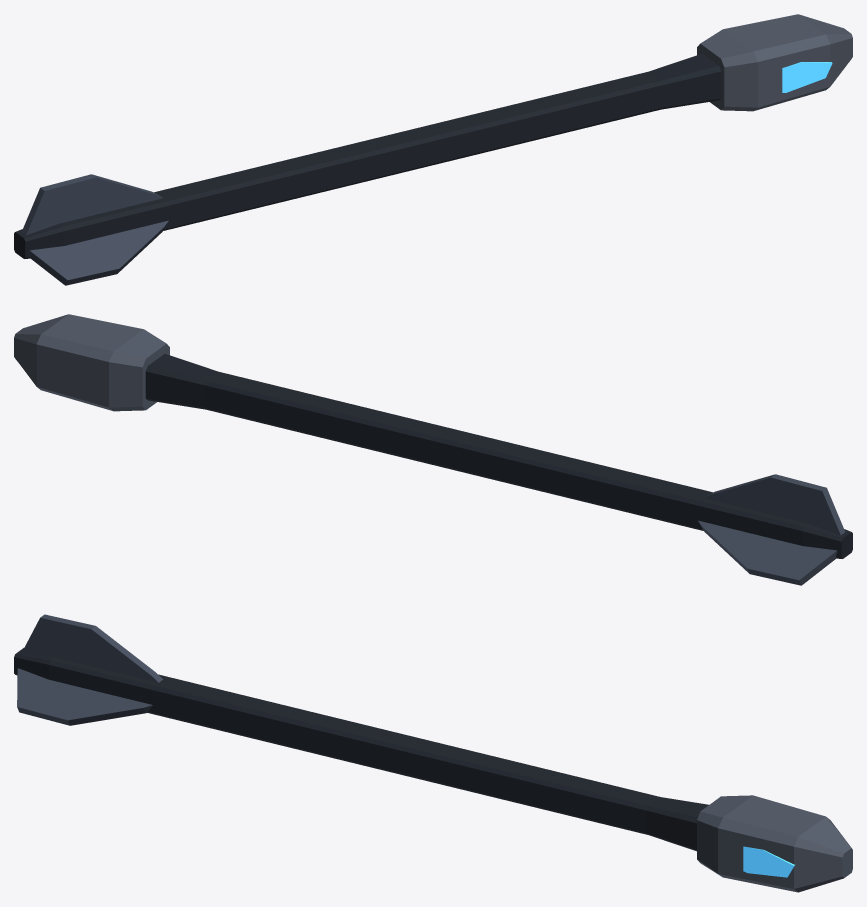
File: ReconDart.fbx
The picture shows the model from 3 angles, top to bottom: view 1: azimuth 30°, elevation 25°; view 2: azimuth 150°, elevation 25°; view 3: azimuth 330°, elevation 25°; orthographic projection.
Parts seen in each view (by area): view 1: Body.002, Tip, Fin1, Fin2, Light_Energy; view 2: Body.002, Tip, Fin1, Fin3; view 3: Body.002, Tip, Fin1, Fin2, Light_Energy.
Part boxes in pixels (x1,y1,x2,y2): Body.002: [14, 53, 721, 258]; Tip: [697, 14, 852, 111]; Fin1: [22, 174, 162, 235]; Fin2: [29, 220, 168, 285]; Light_Energy: [782, 62, 832, 92]; Body.002: [145, 353, 852, 558]; Tip: [14, 314, 169, 411]; Fin1: [704, 474, 844, 535]; Fin3: [698, 520, 837, 585]; Body.002: [14, 648, 708, 851]; Tip: [697, 795, 852, 892]; Fin1: [22, 614, 162, 682]; Fin2: [17, 668, 152, 725]; Light_Energy: [743, 846, 794, 877].
Bounding box in the file's own units: 0.839 × 0.079 × 0.0906.
